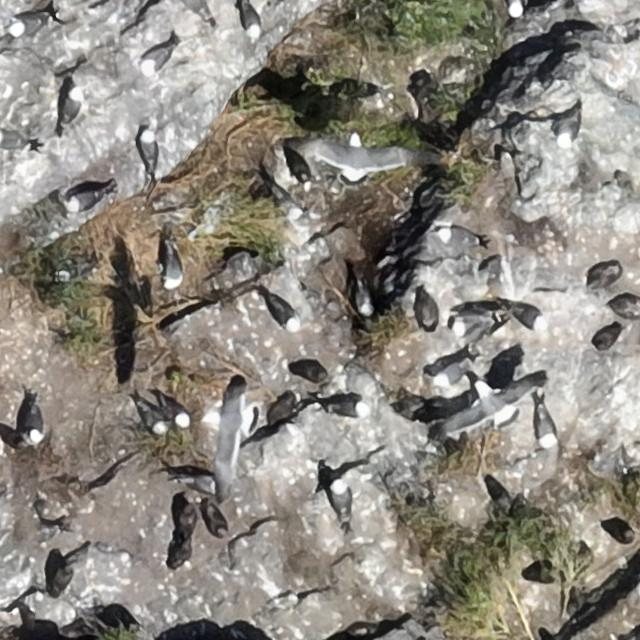F: (452, 370, 538, 430), (314, 133, 412, 181), (208, 380, 254, 468)
umineko: (558, 101, 582, 150), (268, 297, 297, 328), (510, 304, 542, 327), (438, 228, 476, 246), (143, 46, 171, 70), (25, 404, 43, 441), (327, 399, 364, 417), (63, 88, 82, 123), (435, 363, 465, 385), (68, 190, 100, 210), (164, 252, 182, 287), (538, 413, 557, 446), (12, 16, 44, 35), (184, 474, 216, 493), (332, 484, 349, 517), (241, 6, 259, 37), (139, 130, 154, 166), (166, 402, 188, 426), (0, 130, 29, 148), (358, 288, 374, 316), (144, 406, 162, 429), (507, 0, 523, 16)
